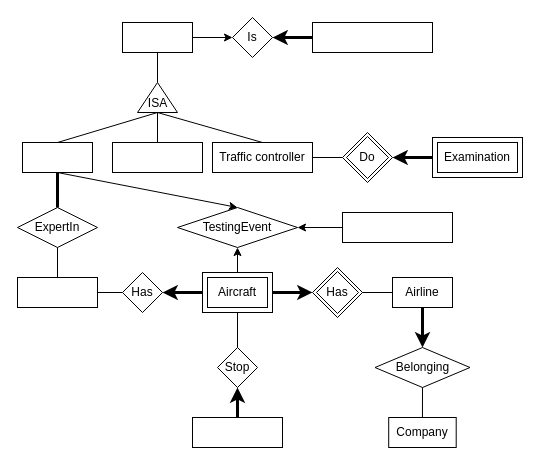
Image size: 540x465. Some labels were removed from this diagram. Each missing label, with the box of its shape:
AircraftType: (16, 276, 98, 308)
Employee: (122, 22, 192, 52)
Ground Crew: (112, 142, 202, 172)
M aintenance: (192, 416, 282, 448)
SocialClubMember: (312, 22, 432, 52)
Technician: (22, 142, 92, 172)
TestSpecification: (342, 212, 452, 242)
